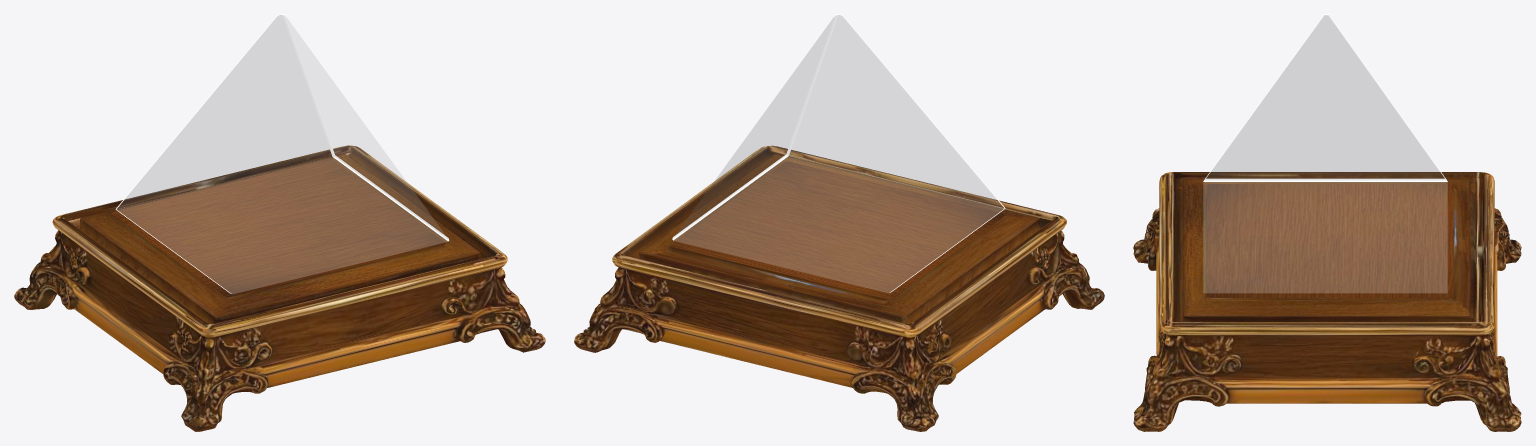
The model's file is prism_animated_8.glb.
3 renders of one model, left to right at view 1: azimuth 30°, elevation 25°; view 2: azimuth 150°, elevation 25°; view 3: azimuth 270°, elevation 25°, orthographic. The views are drawn at different scales.
Parts seen in each view (by area): view 1: body, rotation_part, rotation_part_countur; view 2: body, rotation_part, rotation_part_countur; view 3: body, rotation_part, rotation_part_countur.
Part boxes in pixels (box(x1,y1,x2,y2)): body: box(14, 145, 545, 431); rotation_part: box(117, 15, 447, 293); rotation_part_countur: box(115, 14, 449, 293); body: box(574, 145, 1104, 431); rotation_part: box(673, 15, 1004, 292); rotation_part_countur: box(672, 14, 1005, 292); body: box(1133, 172, 1521, 431); rotation_part: box(1203, 15, 1447, 292); rotation_part_countur: box(1203, 14, 1447, 181).
Size of the model in its own units: 0.363 by 0.3038 by 0.3252.
Materials: 3 (2 with a texture image).
